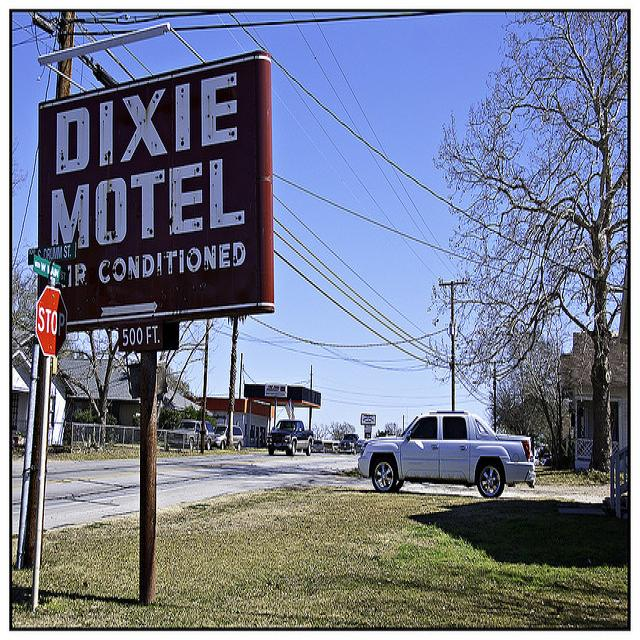Vehicle: (358, 414, 533, 499), (266, 419, 314, 457), (267, 419, 314, 457), (168, 420, 215, 450), (170, 419, 202, 451), (213, 424, 244, 450), (338, 432, 365, 455), (311, 439, 324, 452)
